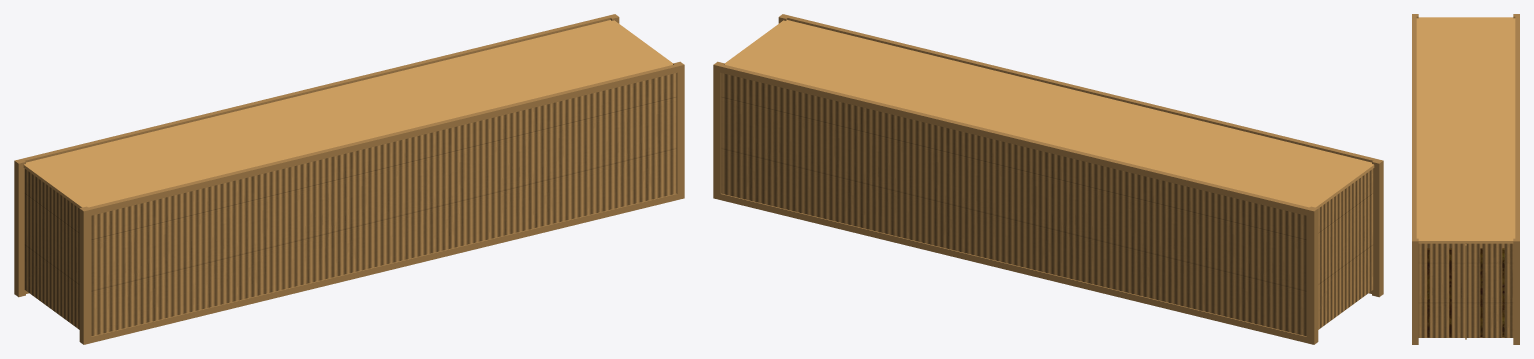
Rendered from iso-40-orange.loc-v1.lod1.glb.
The picture shows the model from 3 angles, left to right: view 1: azimuth 30°, elevation 25°; view 2: azimuth 150°, elevation 25°; view 3: azimuth 270°, elevation 25°; orthographic projection. The views are drawn at different scales.
Parts seen in each view (by area): view 1: iso-40-orange; view 2: iso-40-orange; view 3: iso-40-orange.
Part boxes in pixels (x1,y1,x2,y2): iso-40-orange: [14, 14, 684, 344]; iso-40-orange: [713, 14, 1383, 344]; iso-40-orange: [1412, 14, 1519, 344].
Bounding box in the file's own units: 12.2 × 2.59 × 2.44.
3 materials, 2 textured.
